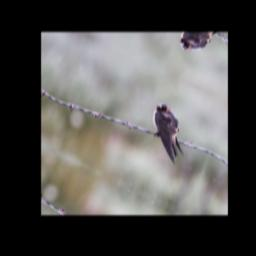Swallow: (140, 99, 198, 168)
